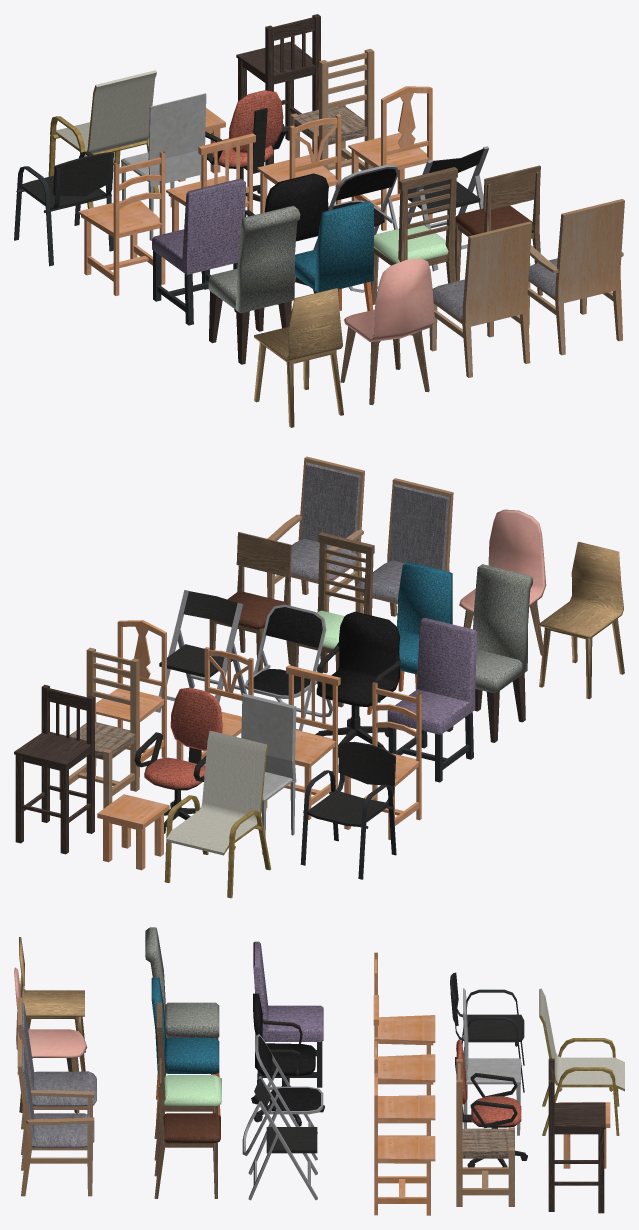
File: chairs.glb
3 renders of one model, top to bottom at view 1: azimuth 30°, elevation 25°; view 2: azimuth 150°, elevation 25°; view 3: azimuth 270°, elevation 25°, orthographic. The views are drawn at different scales.
Visible parts, largest first — view 1: Chair_01, Chair, Chair_07, Chair_11, Chair_02, Chair_22, Chair_06, Chair_03, Chair_05, Chair_15, Chair_18, Chair_20 (+10 smaller); view 2: Chair_22, Chair_11, Chair_07, Chair, Chair_20, Chair_01, Chair_10, Chair_03, Chair_19, Chair_17, Chair_16, Chair_18 (+11 smaller); view 3: Chair, Chair_16, Chair_20, Chair_22, Chair_11, Chair_12, Chair_04, Chair_01, Chair_08, Chair_07, Chair_05, Chair_06 (+11 smaller).
Boxes of the visible parts, bbox=[...] form: Chair_01: bbox=[429, 221, 531, 377]; Chair: bbox=[527, 199, 624, 355]; Chair_07: bbox=[208, 205, 300, 364]; Chair_11: bbox=[152, 178, 245, 325]; Chair_02: bbox=[340, 258, 434, 405]; Chair_22: bbox=[48, 70, 159, 208]; Chair_06: bbox=[291, 201, 373, 310]; Chair_03: bbox=[254, 288, 343, 427]; Chair_05: bbox=[371, 167, 457, 304]; Chair_15: bbox=[78, 151, 165, 295]; Chair_18: bbox=[121, 93, 206, 240]; Chair_20: bbox=[236, 14, 320, 165]; Chair_22: bbox=[164, 730, 270, 898]; Chair_11: bbox=[387, 617, 477, 782]; Chair_07: bbox=[446, 564, 532, 742]; Chair: bbox=[267, 456, 364, 612]; Chair_20: bbox=[14, 684, 94, 854]; Chair_01: bbox=[355, 478, 453, 616]; Chair_10: bbox=[315, 611, 400, 757]; Chair_03: bbox=[539, 542, 624, 699]; Chair_19: bbox=[300, 741, 396, 879]; Chair_17: bbox=[134, 687, 222, 833]; Chair_16: bbox=[59, 647, 139, 808]; Chair_18: bbox=[241, 693, 296, 854]; Chair: bbox=[17, 1039, 94, 1196]; Chair_16: bbox=[456, 1059, 514, 1206]; Chair_20: bbox=[548, 1058, 605, 1213]; Chair_22: bbox=[539, 988, 624, 1135]; Chair_11: bbox=[253, 941, 323, 1087]; Chair_12: bbox=[374, 1073, 435, 1215]; Chair_04: bbox=[154, 1058, 220, 1198]; Chair_01: bbox=[17, 997, 96, 1154]; Chair_08: bbox=[248, 1076, 317, 1200]; Chair_07: bbox=[145, 927, 219, 1075]; Chair_05: bbox=[154, 1002, 221, 1160]; Chair_06: bbox=[151, 977, 220, 1122].
Size of the model in its own units: 3.08 by 1.46 by 5.21.
22 materials, 22 textured.
